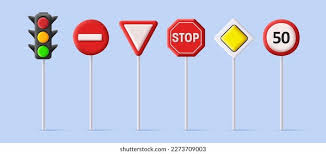stop sign: (167, 19, 206, 58)
